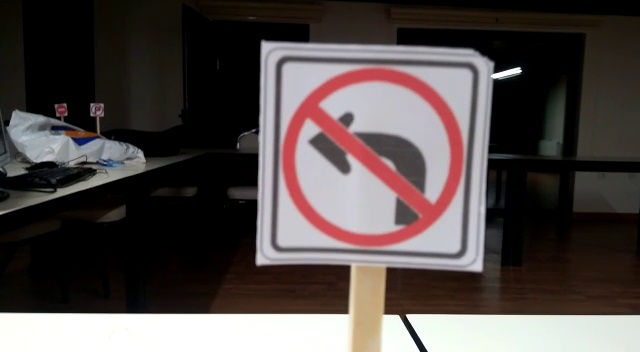sola_donulmez: (255, 53, 490, 269)
